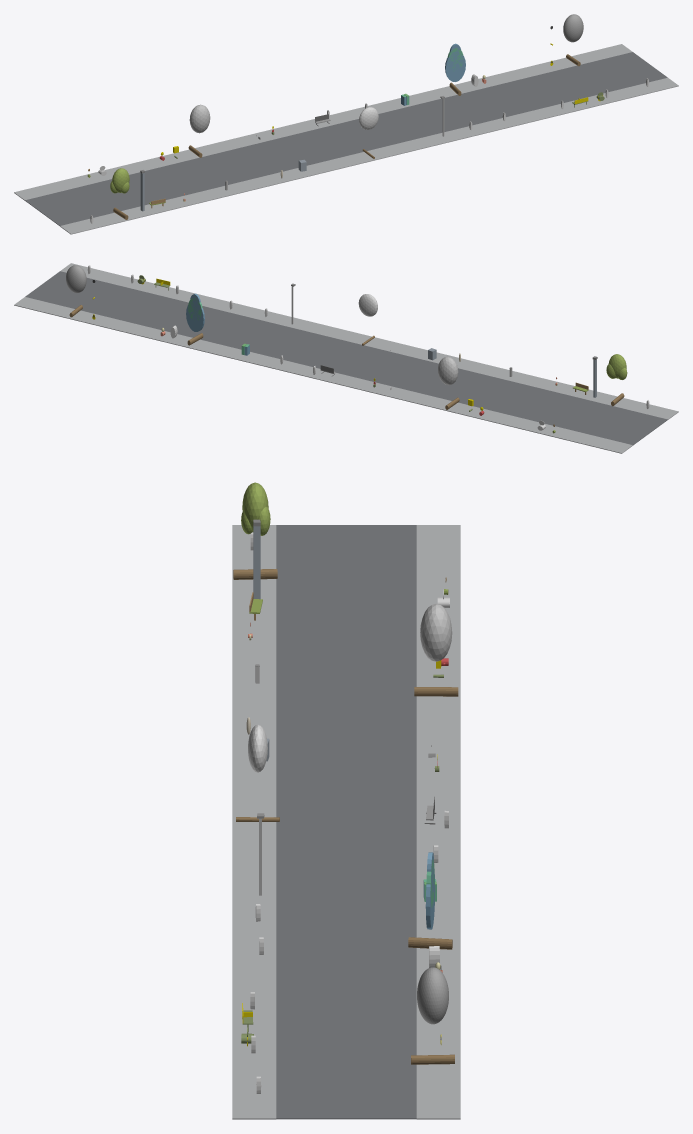
3 views of the same model, one above another, from view 1: azimuth 30°, elevation 25°; view 2: azimuth 150°, elevation 25°; view 3: azimuth 270°, elevation 25° (orthographic). The views are drawn at different scales.
Parts seen in each view (by area): view 1: road_slab, sidewalk_left, sidewalk_right, inst_0015, inst_0013, inst_0016, inst_0012, inst_0014; view 2: road_slab, sidewalk_right, sidewalk_left, inst_0015, inst_0013, inst_0016, inst_0012, inst_0014; view 3: road_slab, sidewalk_left, sidewalk_right, inst_0013, inst_0016, inst_0012, inst_0015, inst_0014.
Part boxes in pixels (x1,y1,x2,y2): road_slab: (25,52,667,225); sidewalk_left: (60,77,678,234); sidewalk_right: (14,44,632,200); inst_0015: (445,43,465,95); inst_0013: (188,104,210,157); inst_0016: (563,14,583,66); inst_0012: (110,168,129,219); inst_0014: (359,107,378,158); road_slab: (25,271,667,445); sidewalk_right: (14,297,632,453); sidewalk_left: (60,263,678,419); inst_0015: (186,293,204,345); inst_0013: (438,356,459,409); inst_0016: (66,265,86,317); inst_0012: (606,354,627,406); inst_0014: (358,294,377,345); road_slab: (276,525,416,1119); sidewalk_left: (232,525,276,1119); sidewalk_right: (416,525,460,1119); inst_0013: (414,603,458,696); inst_0016: (411,967,454,1064); inst_0012: (233,482,277,579); inst_0015: (408,852,452,949); inst_0014: (236,725,279,821).
Bounding box in the file's own units: 80 × 6.08 × 13.
